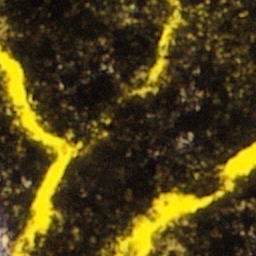cement_matrix: (0, 0, 255, 255), (0, 74, 52, 255), (146, 11, 181, 88)
cracks: (0, 44, 80, 255), (106, 192, 214, 255), (147, 12, 180, 87), (220, 142, 255, 192), (170, 0, 175, 5)
